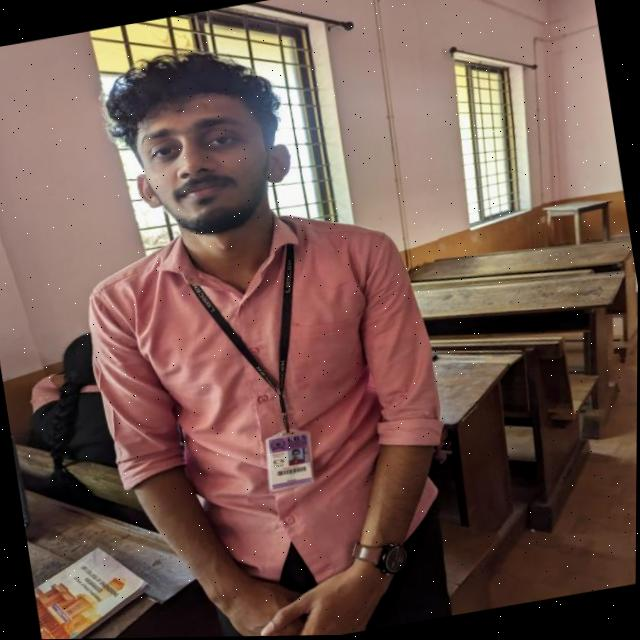id_card: (180, 233, 336, 514)
